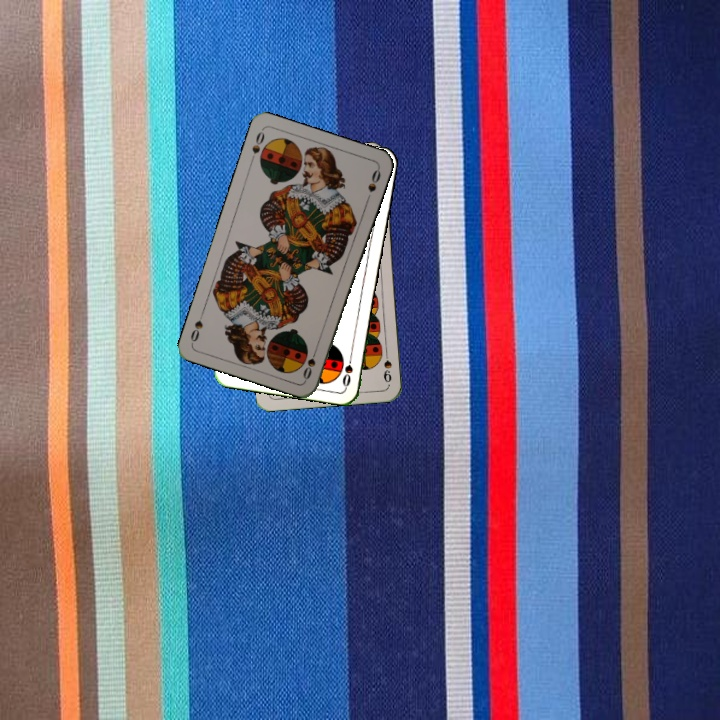S9: (380, 345, 394, 385)
SO: (299, 343, 320, 382), (246, 127, 267, 166), (338, 349, 355, 389)
